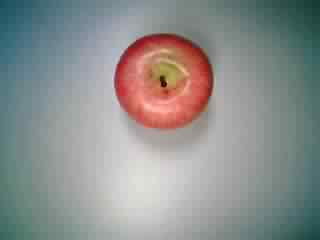apple: (111, 30, 216, 130)
